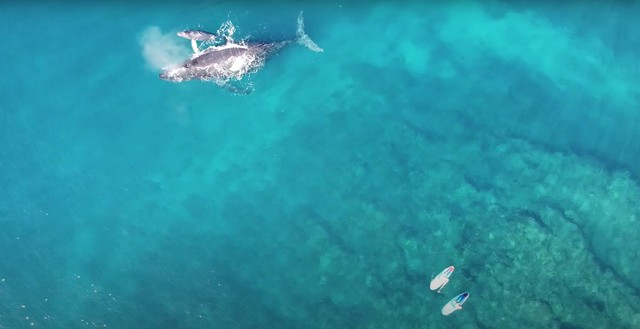whale: (152, 5, 332, 102), (171, 23, 237, 55)
